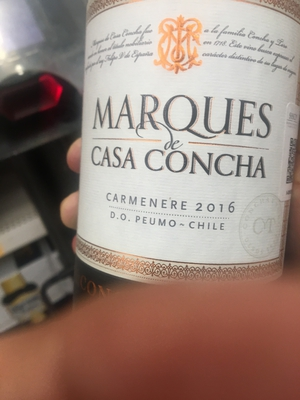marques de casa concha carmenere: (77, 1, 296, 335)
